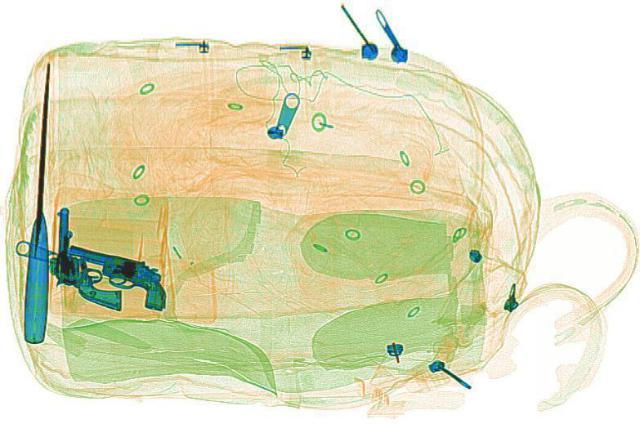Gun: (42, 240, 186, 309), (39, 205, 132, 309)
Knife: (20, 62, 58, 340)
